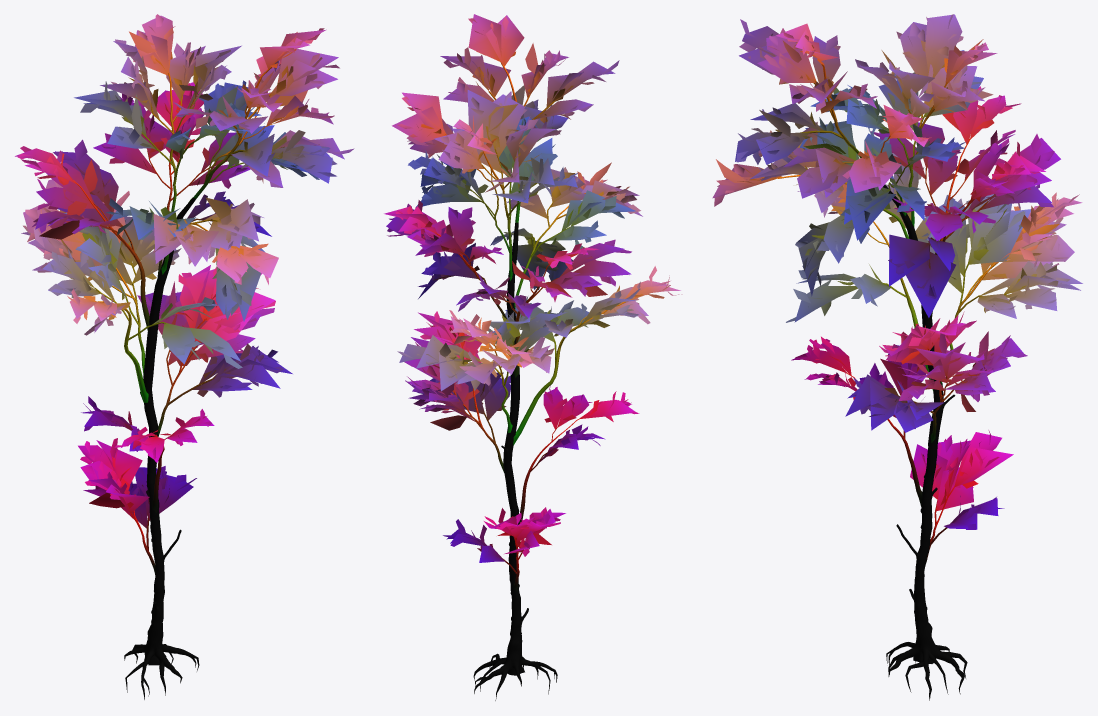
File: SM_EuropeanBeech_M_01.fbx
The picture shows the model from 3 angles, left to right: view 1: azimuth 30°, elevation 25°; view 2: azimuth 150°, elevation 25°; view 3: azimuth 270°, elevation 25°; orthographic projection. The views are drawn at different scales.
Parts seen in each view (by area): view 1: SM_EuropeanBeech_M_01_LOD0; view 2: SM_EuropeanBeech_M_01_LOD0; view 3: SM_EuropeanBeech_M_01_LOD0.
Boxes of the visible parts, left/top/right/bottom form: SM_EuropeanBeech_M_01_LOD0: left=15, top=14, right=354, bottom=699; SM_EuropeanBeech_M_01_LOD0: left=384, top=14, right=682, bottom=700; SM_EuropeanBeech_M_01_LOD0: left=712, top=14, right=1082, bottom=700.
Size of the model in its own units: 275 by 310 by 637.
